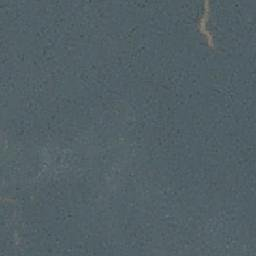debris: (195, 1, 220, 46)
